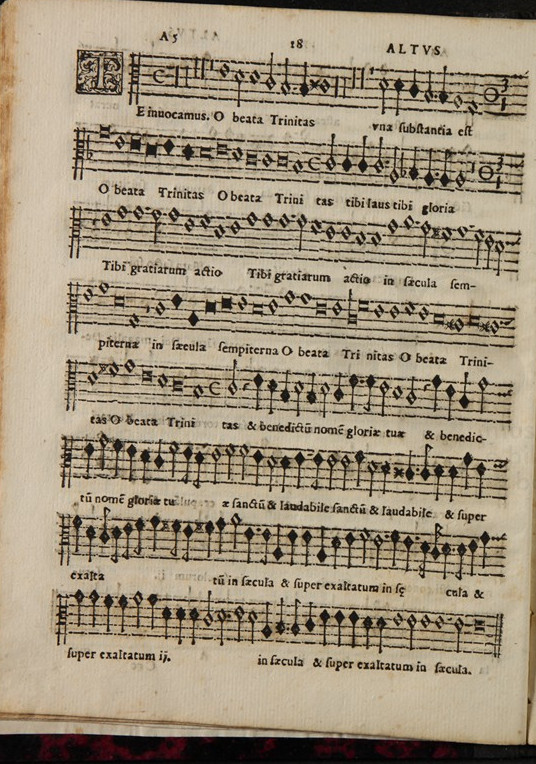1: (491, 94, 512, 115)
3: (496, 69, 511, 91)
Imin: (146, 60, 168, 92)
Pmin: (479, 80, 500, 106)
breve rest: (207, 48, 216, 103)
c clef_7: (124, 49, 143, 107)
custos_3: (511, 64, 530, 83)
longa rest: (170, 52, 182, 102), (347, 56, 358, 110), (338, 59, 349, 112), (197, 48, 207, 102), (355, 60, 366, 108), (181, 52, 191, 102), (331, 61, 341, 111), (190, 51, 199, 100)
minim_6: (231, 64, 247, 115), (375, 70, 389, 117)
minim_7: (263, 49, 276, 94)
minim_8: (277, 52, 292, 100), (421, 64, 434, 107)
point: (427, 87, 441, 104), (286, 80, 299, 97)
semibreve rest: (365, 56, 375, 110)
semibreve_10: (466, 94, 484, 118)
semibreve_5: (214, 54, 233, 81)
semibreve_6: (246, 62, 263, 90)
semibreve_7: (318, 72, 332, 98)
semibreve_9: (450, 89, 465, 113)
semiminim_6: (391, 70, 406, 118)
semiminim_7: (407, 62, 421, 104)
semiminim_8: (437, 61, 450, 110), (297, 56, 310, 102)
sharp: (304, 72, 322, 95)
